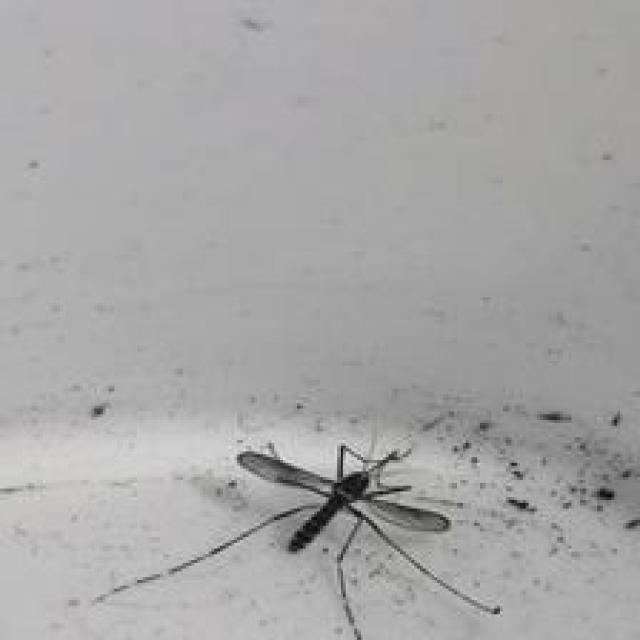Aedes albopictus: (91, 437, 503, 640)
